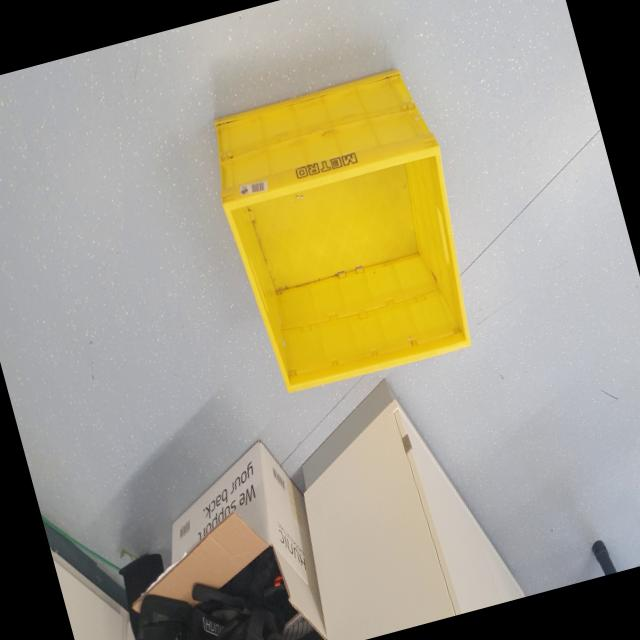box: (190, 48, 499, 410)
